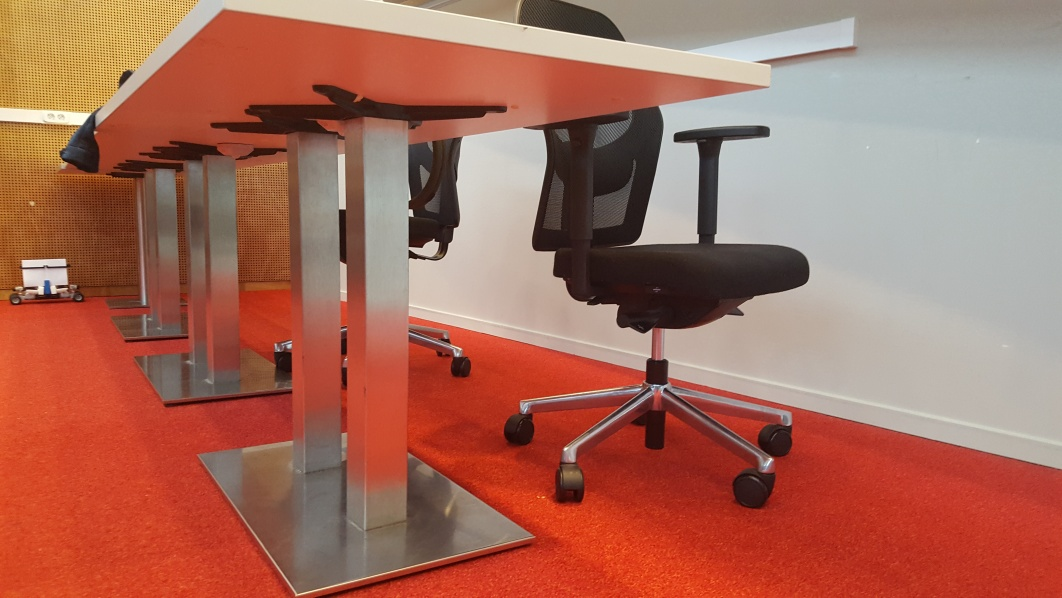car: (9, 257, 86, 305)
